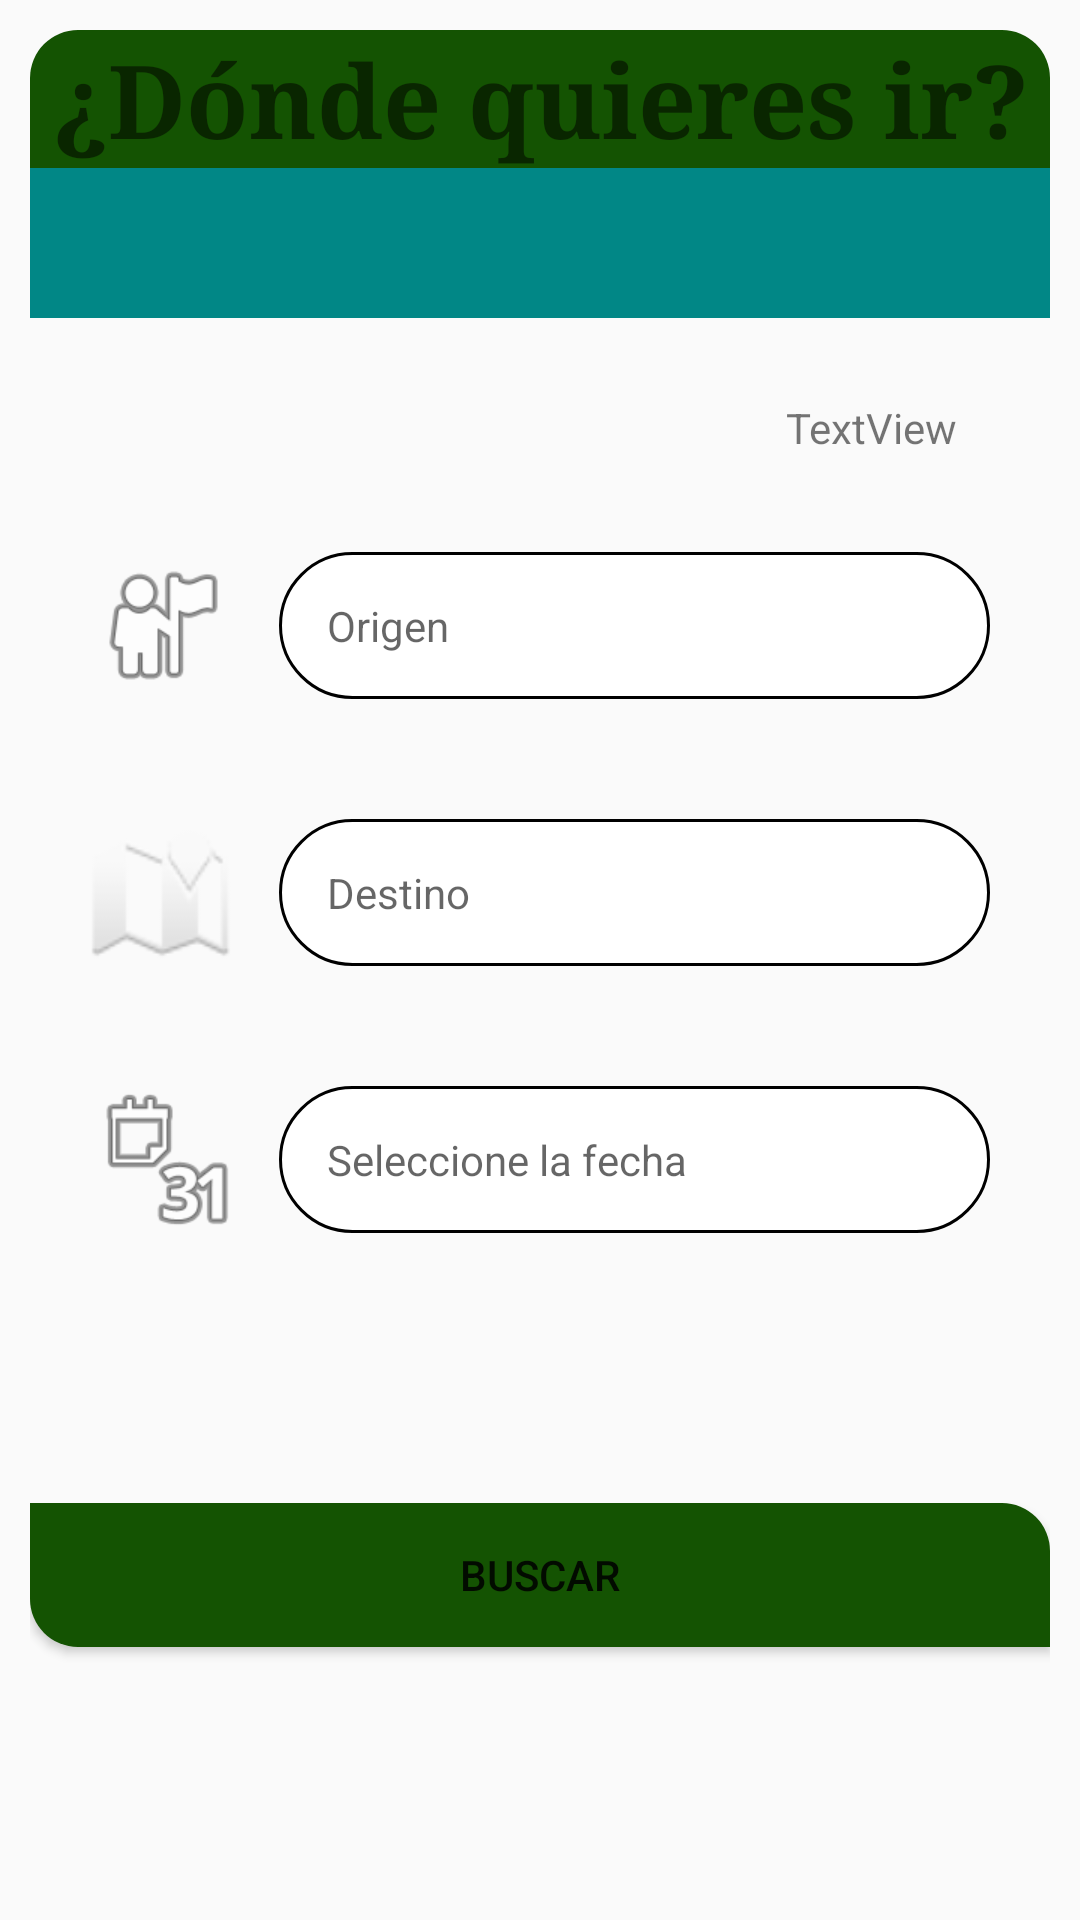

Screen size 1080 x 1920. Icon name, then its box in pixels as (x1, y1, x2, y2):
map: (93, 846, 228, 955)
month: (106, 1095, 228, 1224)
myplaces: (109, 572, 218, 679)
